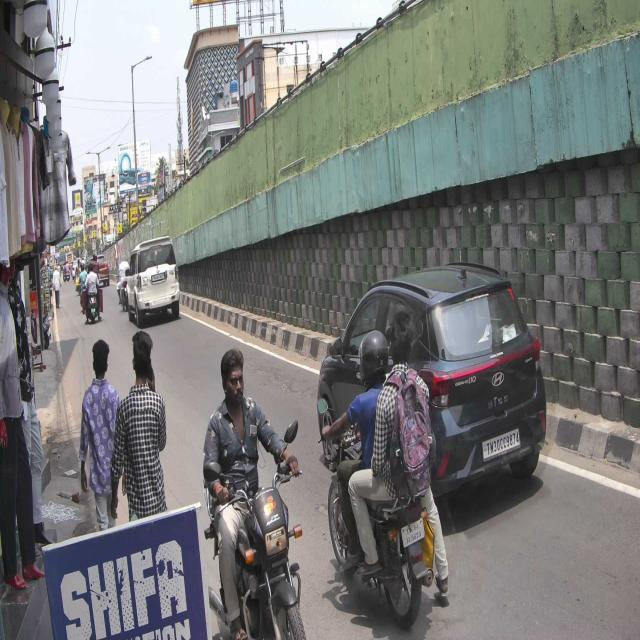double_rider: (317, 312, 453, 627)
single_rider: (202, 346, 306, 640)
